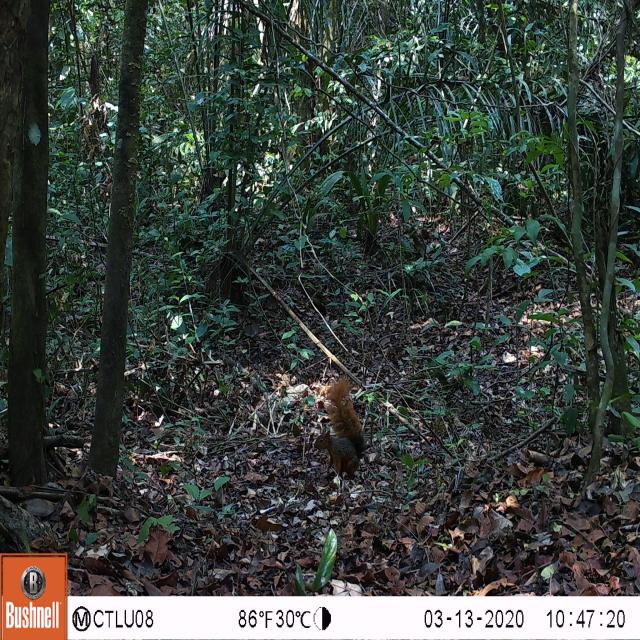Squirrel: (287, 376, 389, 496)
